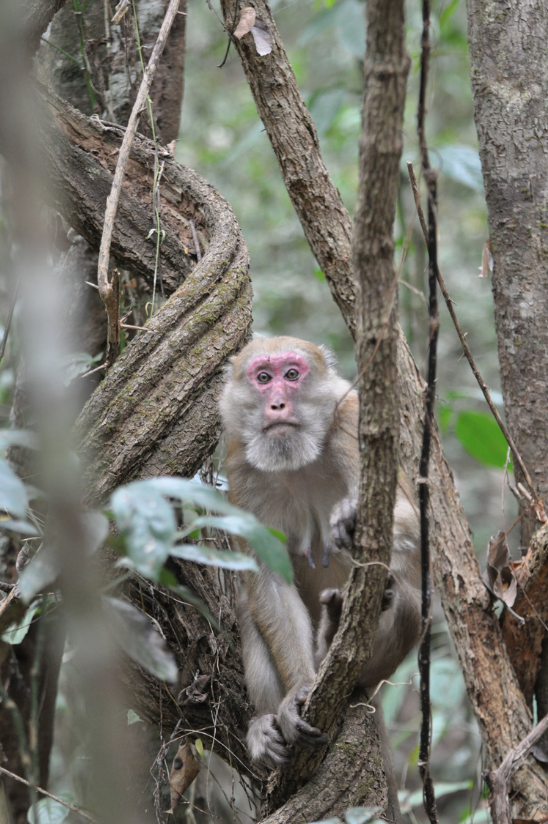monkey: (206, 325, 490, 780)
